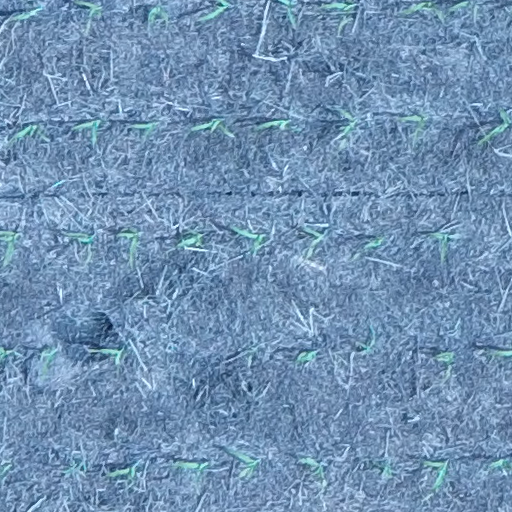planta: (222, 443, 264, 482), (298, 221, 333, 266), (229, 223, 271, 257), (332, 103, 364, 146), (104, 458, 146, 490), (187, 115, 238, 140), (395, 110, 428, 148), (114, 224, 143, 267), (168, 458, 215, 484), (425, 228, 459, 263), (5, 120, 49, 147), (62, 227, 98, 260), (251, 116, 304, 136), (71, 116, 103, 148), (419, 457, 452, 486), (36, 342, 59, 383), (85, 344, 127, 366), (357, 323, 382, 357), (358, 230, 390, 256), (180, 223, 208, 252), (60, 451, 90, 478), (432, 349, 457, 381), (129, 119, 160, 143), (304, 456, 328, 487), (290, 347, 319, 368), (370, 456, 396, 479), (296, 453, 309, 466), (51, 178, 64, 189), (173, 238, 184, 251), (431, 482, 440, 491), (428, 485, 435, 493), (73, 214, 80, 221), (119, 357, 124, 362)
